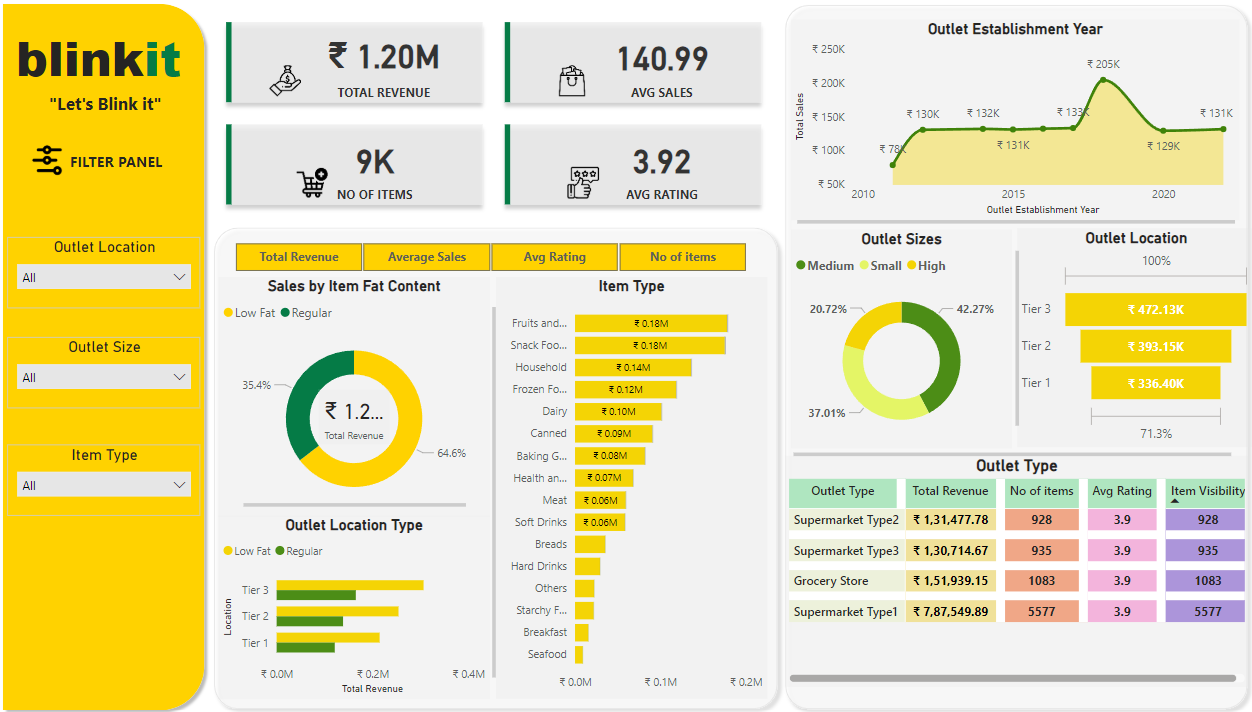

This screenshot's page, from the dashboard's own definition file:
{"tool":"powerbi","page":{"name":"Page 1","canvas":[1400,800],"ordinal":0},"visuals":[{"type":"shape","box":[0,0,239.1,800.3],"z":0},{"type":"shape","box":[868.2,0,531.3,800.3],"z":1000},{"type":"shape","box":[233.7,247.3,644,553],"z":2000},{"type":"donutChart","title":"Sales by Item Fat Content","fields":{"Category":["BlinkIT Grocery Data.Item Fat Content"],"Y":["Sum(BlinkIT Grocery Data.Sales)"]},"box":[247.3,311.1,301.6,266.3],"z":3000},{"type":"textbox","box":[12.2,24.5,202.4,119.6],"z":4000},{"type":"card","fields":{"Values":["BlinkIT Grocery Data.Total Revenue"]},"box":[358.7,436.1,78.8,61.1],"z":5000},{"type":"cardVisual","fields":{"Data":["BlinkIT Grocery Data.Total Revenue","BlinkIT Grocery Data.Average Sales","BlinkIT Grocery Data.No of items","BlinkIT Grocery Data.Avg Rating"]},"box":[239.1,10.9,629.1,236.4],"z":6000},{"type":"barChart","title":"Item Type","fields":{"Y":["BlinkIT Grocery Data.Total Revenue"],"Category":["BlinkIT Grocery Data.Item Type"]},"box":[555.7,311.1,301.6,468.8],"z":7000},{"type":"slicer","fields":{"Values":["Metrics.Metrics"]},"box":[240.5,266.3,616.9,44.8],"z":8000},{"type":"clusteredBarChart","title":"Outlet Location Type","fields":{"Y":["BlinkIT Grocery Data.Total Revenue"],"Category":["BlinkIT Grocery Data.Outlet Location Type"],"Series":["BlinkIT Grocery Data.Item Fat Content"]},"box":[247.3,576.1,301.6,203.8],"z":9000},{"type":"lineChart","title":"Outlet Establishment Year","fields":{"Category":["BlinkIT Grocery Data.Outlet Establishment Year"],"Y":["BlinkIT Grocery Data.Total Revenue"]},"box":[883.2,24.5,498.6,222.8],"z":10000},{"type":"donutChart","title":"Outlet Sizes","fields":{"Category":["BlinkIT Grocery Data.Outlet Size"],"Y":["BlinkIT Grocery Data.Total Revenue"]},"box":[883.2,258.2,245.9,243.2],"z":11000},{"type":"funnel","title":"Outlet Location","fields":{"Y":["BlinkIT Grocery Data.Total Revenue"],"Category":["BlinkIT Grocery Data.Outlet Location Type"]},"box":[1134.5,256.8,264.9,243.2],"z":12000},{"type":"pivotTable","title":"Outlet Type","fields":{"Rows":["BlinkIT Grocery Data.Outlet Type"],"Values":["BlinkIT Grocery Data.Total Revenue","BlinkIT Grocery Data.No of items","BlinkIT Grocery Data.Avg Rating","CountNonNull(BlinkIT Grocery Data.Item Visibility)"]},"box":[883.3,523.6,516.7,256.9],"z":13000},{"type":"slicer","title":"Outlet Location","fields":{"Values":["BlinkIT Grocery Data.Outlet Location Type"]},"box":[12.2,266.3,214.7,78.8],"z":14000},{"type":"slicer","title":"Outlet Size","fields":{"Values":["BlinkIT Grocery Data.Outlet Size"]},"box":[12.2,377.7,214.7,78.8],"z":15000},{"type":"slicer","title":"Item Type","fields":{"Values":["BlinkIT Grocery Data.Item Type"]},"box":[12.2,497.3,214.7,78.8],"z":16000},{"type":"textbox","box":[57.1,167.1,157.6,39.4],"z":17000},{"type":"image","box":[28.5,157.6,55.7,48.9],"z":18000},{"type":"shape","box":[547.6,345.1,12.2,411.7],"z":19000},{"type":"shape","box":[274.5,553,247.3,23.1],"z":20000},{"type":"shape","box":[890,241.8,486.4,16.3],"z":21000},{"type":"shape","box":[885.9,500,486.4,16.3],"z":22000},{"type":"shape","box":[1126.4,281.9,16.7,194.4],"z":23000}]}

Visuals, with their boxes in screenshot pixels (x1, y1, x2, y2), scaled from the page's 1400x800 canvas onto the 1252x712 screenshot:
shape: <bbox>0, 0, 214, 711</bbox>
shape: <bbox>776, 0, 1251, 711</bbox>
shape: <bbox>209, 220, 785, 711</bbox>
"Sales by Item Fat Content" donutChart: <bbox>221, 277, 491, 514</bbox>
textbox: <bbox>11, 22, 192, 128</bbox>
card - BlinkIT Grocery Data.Total Revenue: <bbox>321, 388, 391, 443</bbox>
cardVisual - BlinkIT Grocery Data.Total Revenue x BlinkIT Grocery Data.Average Sales: <bbox>214, 10, 776, 220</bbox>
"Item Type" barChart: <bbox>497, 277, 767, 694</bbox>
slicer - Metrics.Metrics: <bbox>215, 237, 767, 277</bbox>
"Outlet Location Type" clusteredBarChart: <bbox>221, 513, 491, 694</bbox>
"Outlet Establishment Year" lineChart: <bbox>790, 22, 1236, 220</bbox>
"Outlet Sizes" donutChart: <bbox>790, 230, 1010, 446</bbox>
"Outlet Location" funnel: <bbox>1015, 229, 1251, 445</bbox>
"Outlet Type" pivotTable: <bbox>790, 466, 1251, 695</bbox>
"Outlet Location" slicer: <bbox>11, 237, 203, 307</bbox>
"Outlet Size" slicer: <bbox>11, 336, 203, 406</bbox>
"Item Type" slicer: <bbox>11, 443, 203, 513</bbox>
textbox: <bbox>51, 149, 192, 184</bbox>
image: <bbox>25, 140, 75, 184</bbox>
shape: <bbox>490, 307, 501, 674</bbox>
shape: <bbox>245, 492, 467, 513</bbox>
shape: <bbox>796, 215, 1231, 230</bbox>
shape: <bbox>792, 445, 1227, 460</bbox>
shape: <bbox>1007, 251, 1022, 424</bbox>
